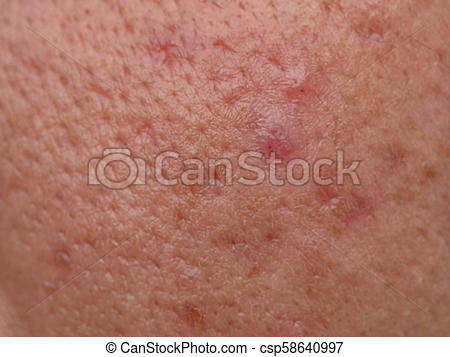acene: (134, 47, 371, 233)
